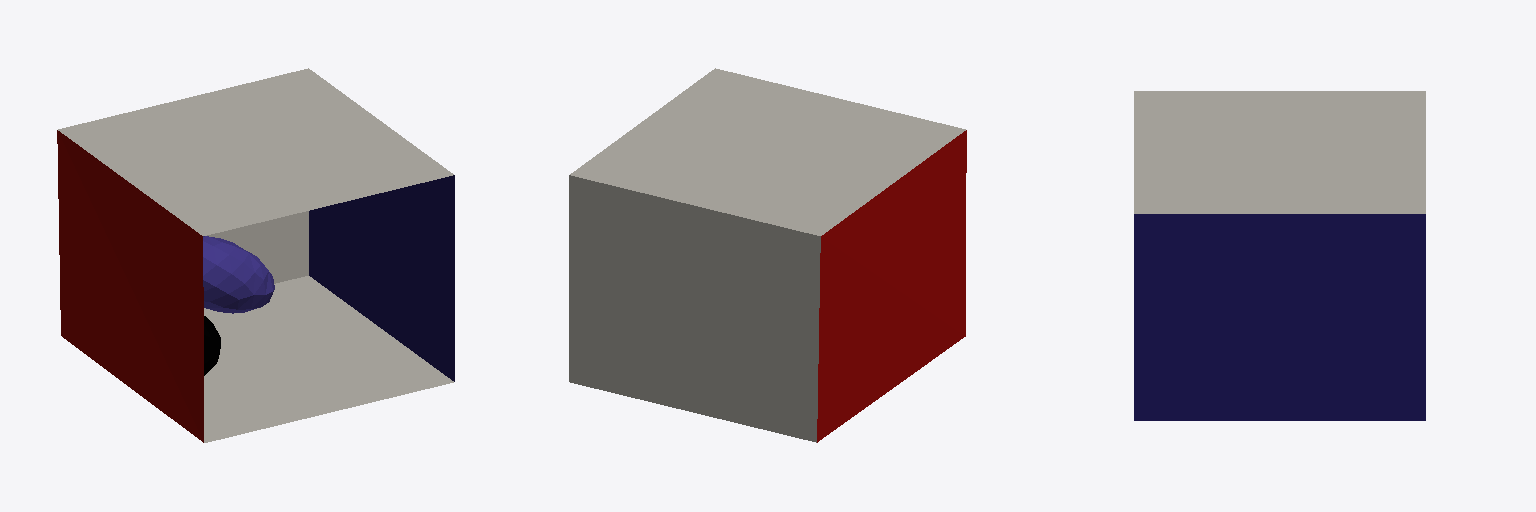
Rendered from CornellBox-Ellipsoid-195.obj.
3 views of the same model, side by side, from view 1: azimuth 30°, elevation 25°; view 2: azimuth 150°, elevation 25°; view 3: azimuth 270°, elevation 25° (orthographic).
Visible parts, largest first — view 1: ceiling, leftWall, floor, rightWall, leftSphere, backWall, rightSphere; view 2: backWall, ceiling, leftWall; view 3: rightWall, ceiling.
Boxes of the visible parts, box(x1,y1,x2,y2) form: ceiling: box(58, 68, 453, 235); leftWall: box(57, 130, 203, 442); floor: box(204, 276, 453, 442); rightWall: box(309, 175, 454, 381); leftSphere: box(203, 236, 274, 313); backWall: box(207, 211, 308, 283); rightSphere: box(204, 316, 220, 375); backWall: box(569, 175, 820, 442); ceiling: box(570, 68, 965, 235); leftWall: box(817, 130, 966, 442); rightWall: box(1134, 214, 1425, 420); ceiling: box(1134, 91, 1425, 213).
Bounding box in the file's own units: 2.02 × 1.59 × 2.03.